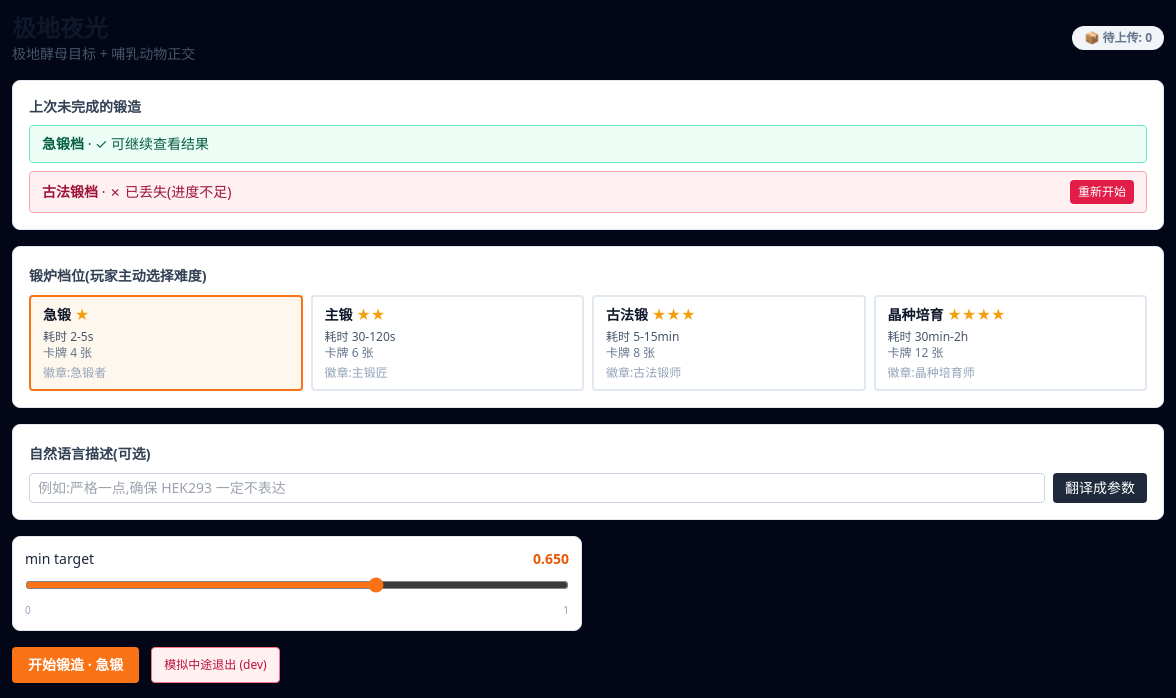
Test case: ForgePage · ritual warning › shows long-wait warning when crystal is selected
切到 crystal
What coordinates should you click on to do the following:
click the button with test id "ritual-option-crystal"
I would click on:
 (916, 314)
Its box is [874,295,1147,391].
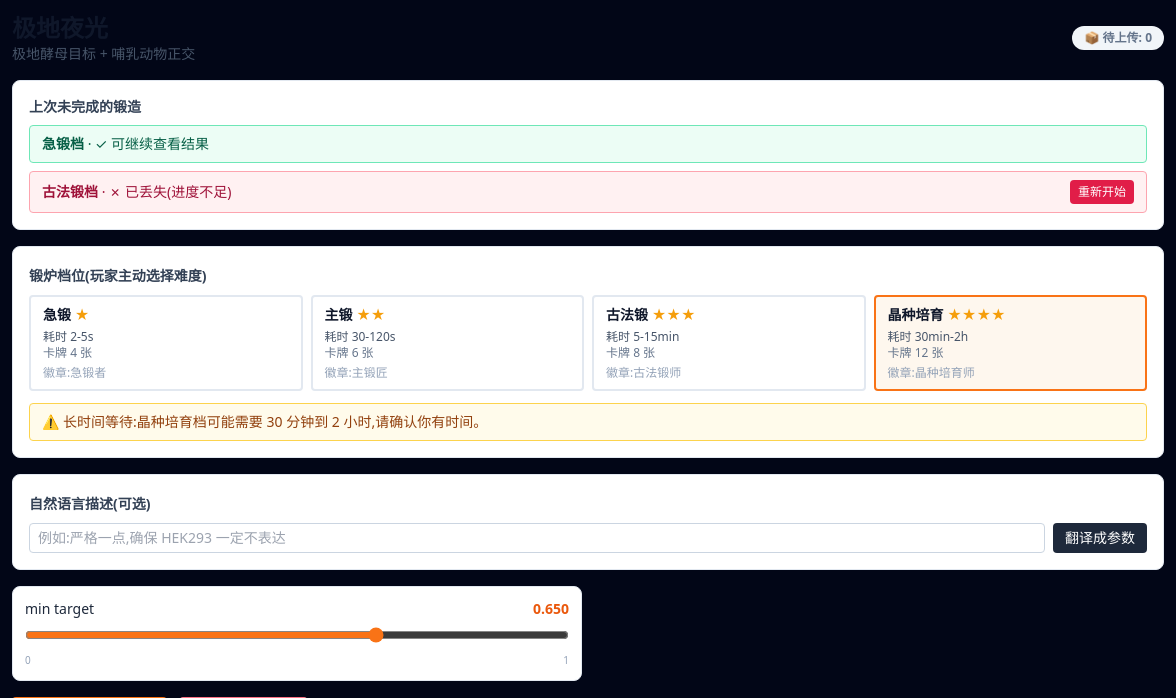
Expected: the message "⚠️ 长时间等待:晶种培育档可能需要 30 分钟到 2 小时,请确认你有时间。" is shown, [29,403,1147,441]
Expected: the message with test id "ritual-warning" shows "长时间等待", [42,412,487,431]
Expected: the message with test id "ritual-warning" shows "晶种培育", [42,412,487,431]
